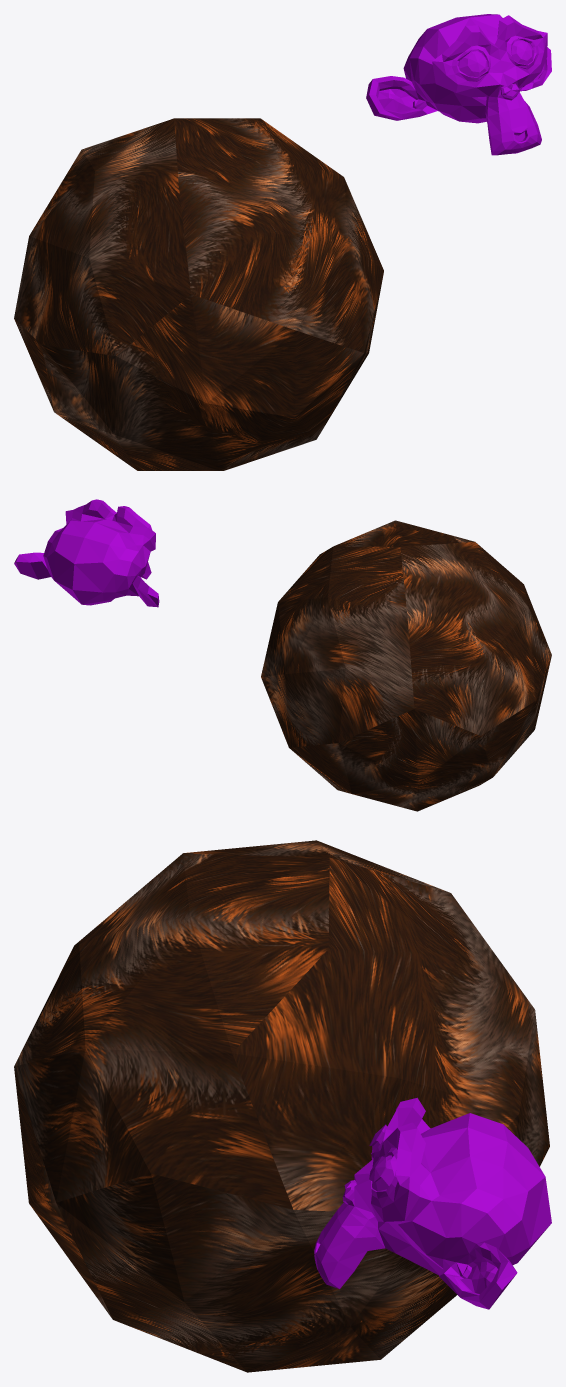
Rendered from ball_07.dae.
3 renders of one model, top to bottom at view 1: azimuth 30°, elevation 25°; view 2: azimuth 150°, elevation 25°; view 3: azimuth 270°, elevation 25°, orthographic. The views are drawn at different scales.
Parts seen in each view (by area): view 1: Icosphere, Suzanne; view 2: Icosphere, Suzanne; view 3: Icosphere, Suzanne.
Part boxes in pixels (x1=…): Icosphere: x1=14, y1=118, x2=383, y2=470; Suzanne: x1=366, y1=14, x2=551, y2=155; Icosphere: x1=261, y1=520, x2=551, y2=811; Suzanne: x1=14, y1=499, x2=159, y2=607; Icosphere: x1=14, y1=840, x2=549, y2=1372; Suzanne: x1=314, y1=1097, x2=551, y2=1309.
Size of the model in its own units: 3.63 by 1.97 by 1.97.
